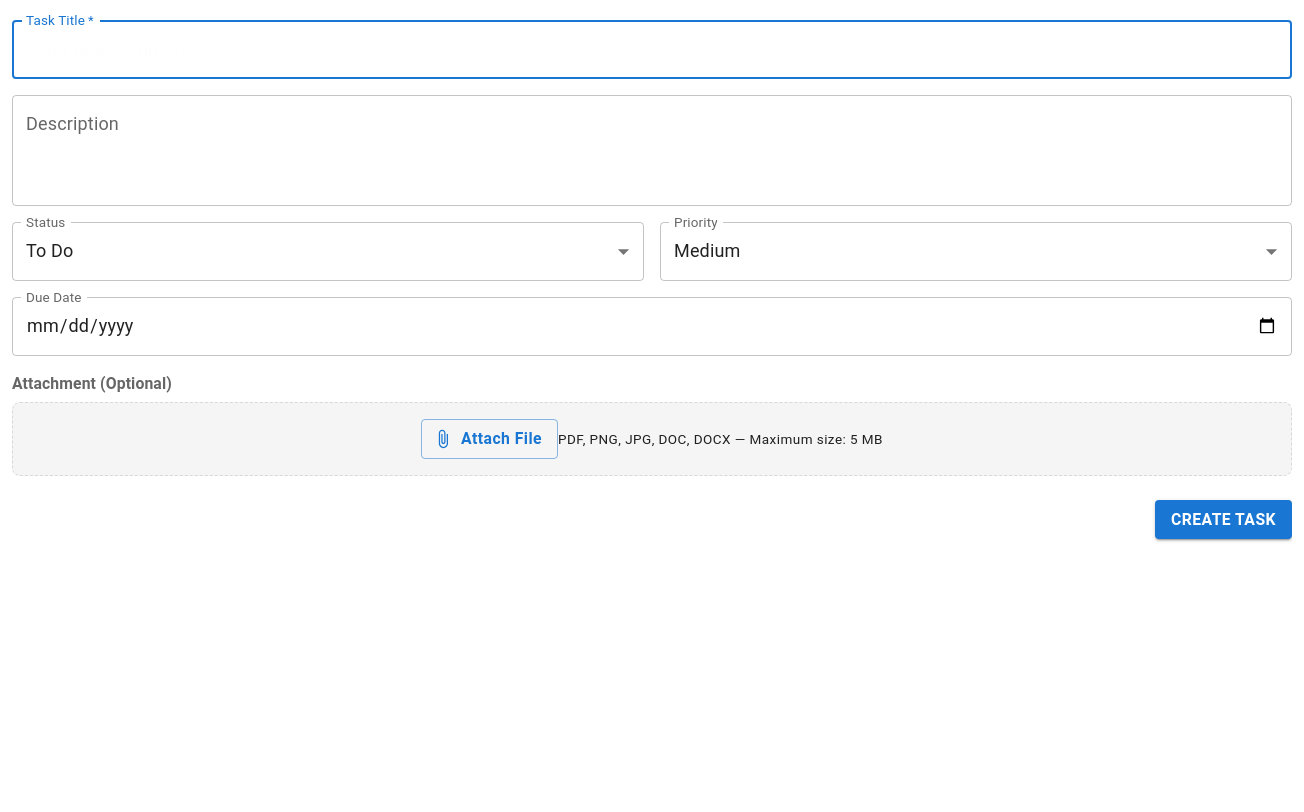
it: TaskForm Component (Create Task Feature) › validation: shows field-level validation error when submitting empty title
Click the button "Create Task" at coordinates (1224, 520), box [1155,500,1292,540]
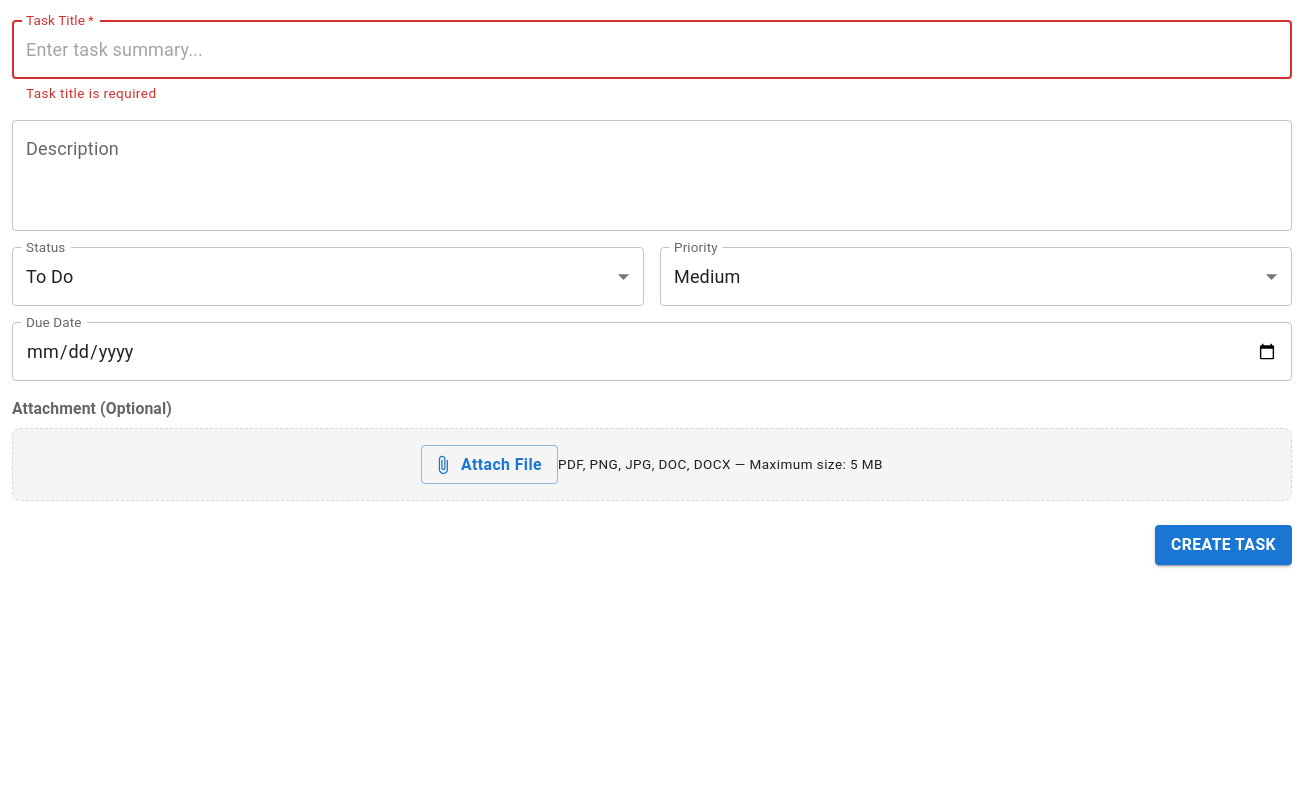
Check: the text "Task title is required" is shown, box [26,85,156,101]
